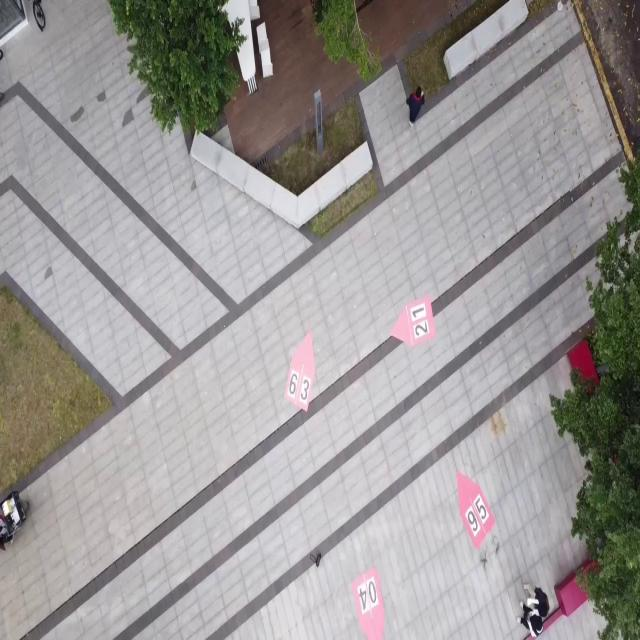-sign-: (441, 464, 504, 553), (386, 291, 442, 354), (344, 570, 394, 640), (286, 327, 320, 415)
